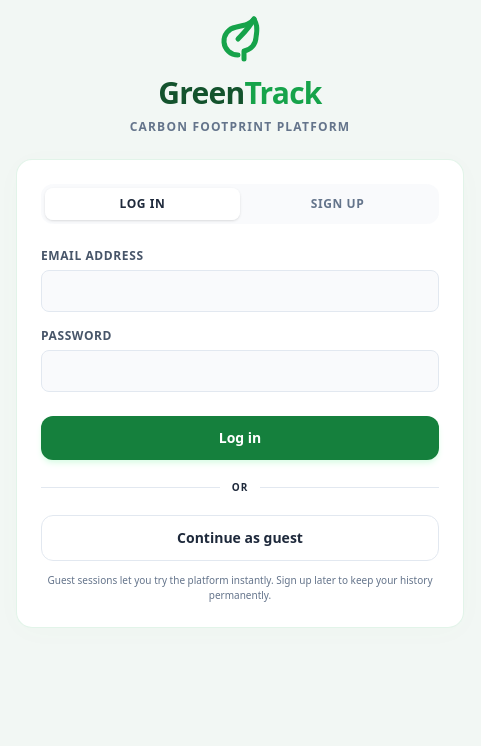
Test case: AuthPage › switches to signup mode when "Sign up" tab is clicked
The image size is (481, 746).
Click the tab "Sign up" at x=338, y=204, box x1=240 y1=188 x2=435 y2=220
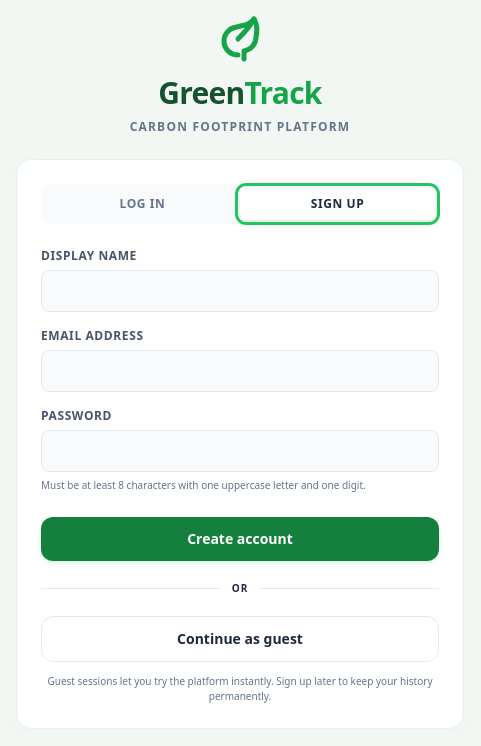
Expected: the field labelled "Display name" is shown, x1=41 y1=270 x2=439 y2=312
Expected: the button "Create account" is shown, x1=41 y1=517 x2=439 y2=561
